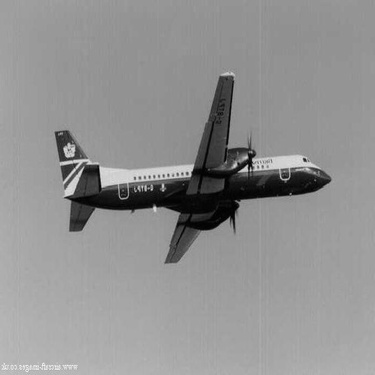airplane: (21, 61, 332, 254)
